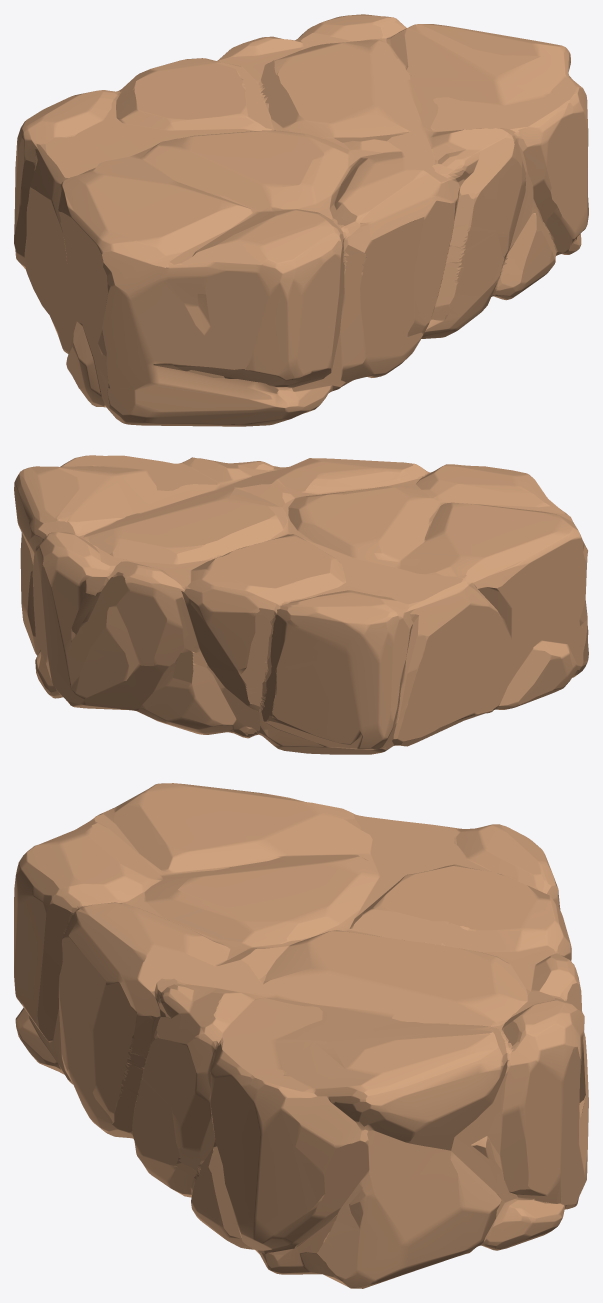
The picture shows the model from 3 angles, top to bottom: view 1: azimuth 30°, elevation 25°; view 2: azimuth 150°, elevation 25°; view 3: azimuth 270°, elevation 25°; orthographic projection. The views are drawn at different scales.
Parts seen in each view (by area): view 1: Mesh_19_LOD0; view 2: Mesh_19_LOD0; view 3: Mesh_19_LOD0.
Boxes of the visible parts, box(x1,y1,x2,y2) form: Mesh_19_LOD0: box(14, 14, 588, 426); Mesh_19_LOD0: box(14, 455, 588, 754); Mesh_19_LOD0: box(14, 783, 588, 1288).
Size of what is drawn, in the model's own units: 3620 by 1158 by 2767.
